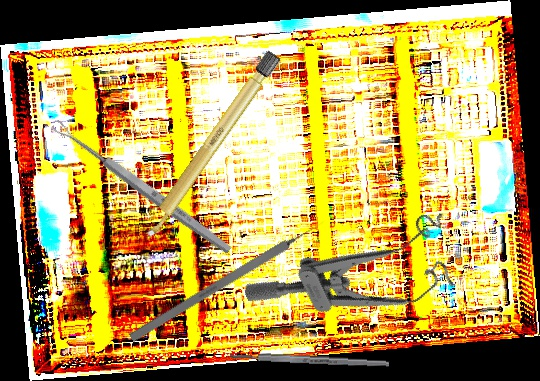Hook Surgical: (128, 217, 327, 343)
Scalpel Handle: (137, 48, 283, 244), (229, 351, 390, 369)
Speculum: (241, 193, 474, 371)
Surgical Spoon: (50, 117, 234, 257)
